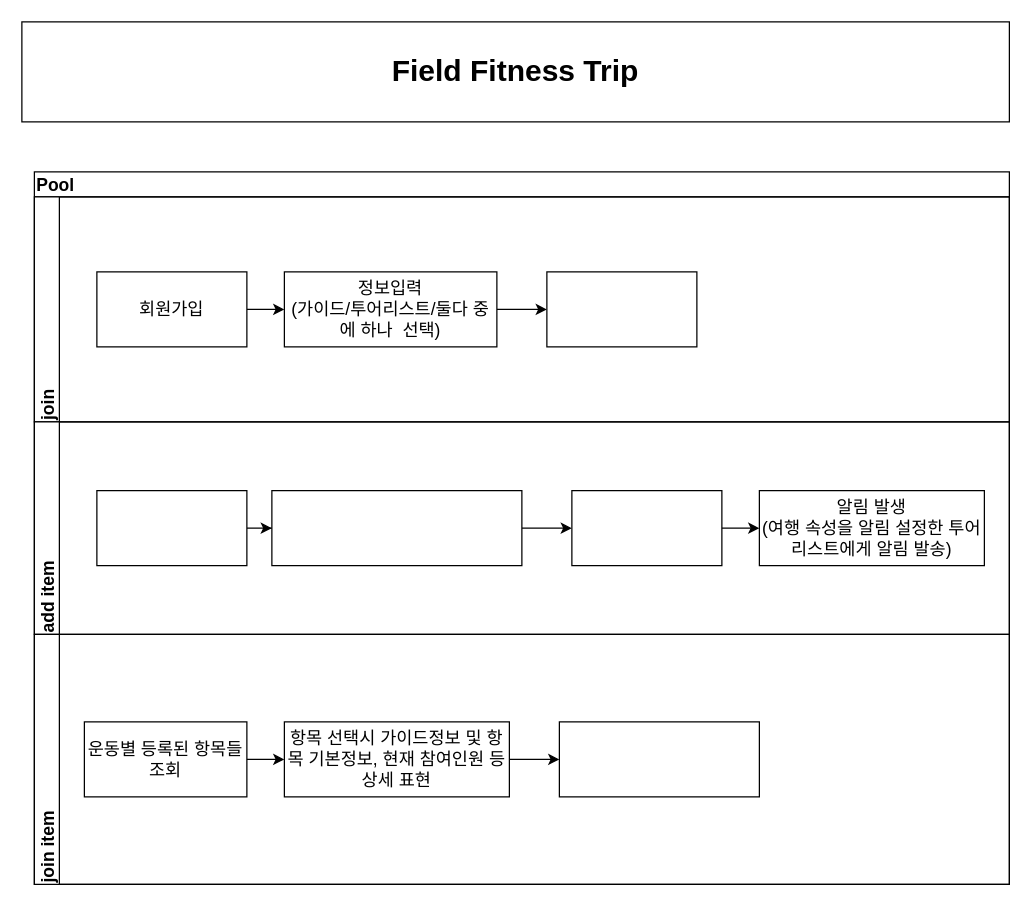
Some shapes in this 1031 by 906 pixel diagram are drawn without their labels. Each missing label, with the centre of its shape:
가이드 모드시 여행 추가 가능: [171,527]
가입 완료: [621,309]
여행 배포: [646,527]
여행 추가 (운동종류, 일자정보, 투어기간, 최소인원, 위치정보, 상세 일정 등록): [396,527]
참여 기능 활성화: [658,759]
